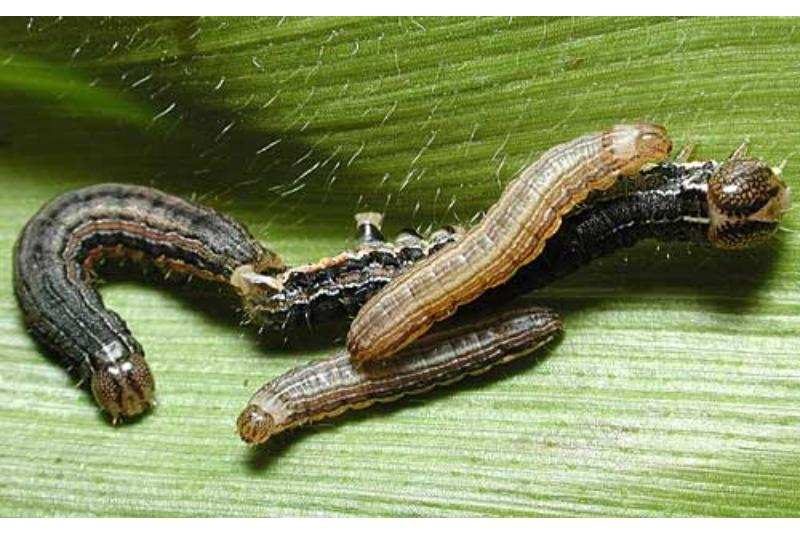fall-armyworm: (241, 137, 790, 337), (347, 123, 675, 363), (14, 184, 291, 429), (235, 306, 568, 446)
